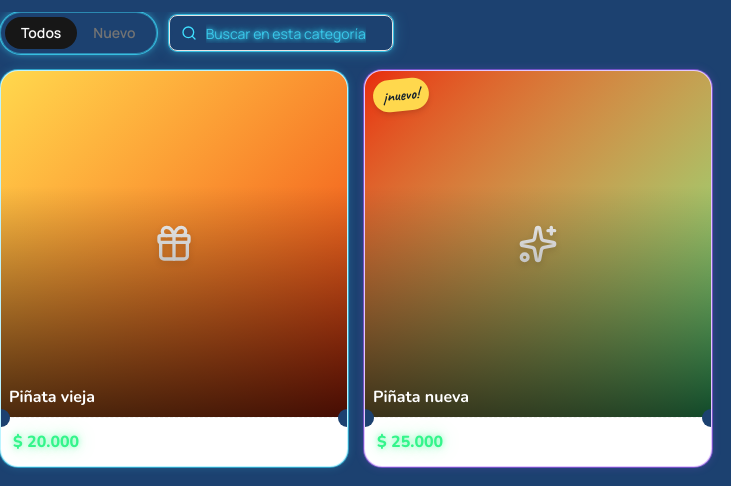
CategoryProductsFilter › filters products by name within the category as the user types
Type "vieja" into the search field labelled "Buscar en esta categoría" at (281, 33), box [169,15,393,51]
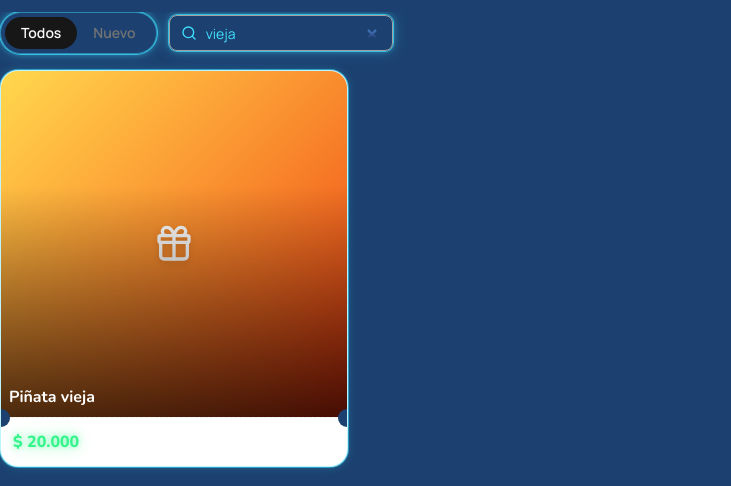
Check: the text "Piñata vieja" is shown, box [9,386,95,408]
Check: the link "Piñata nueva" is gone
